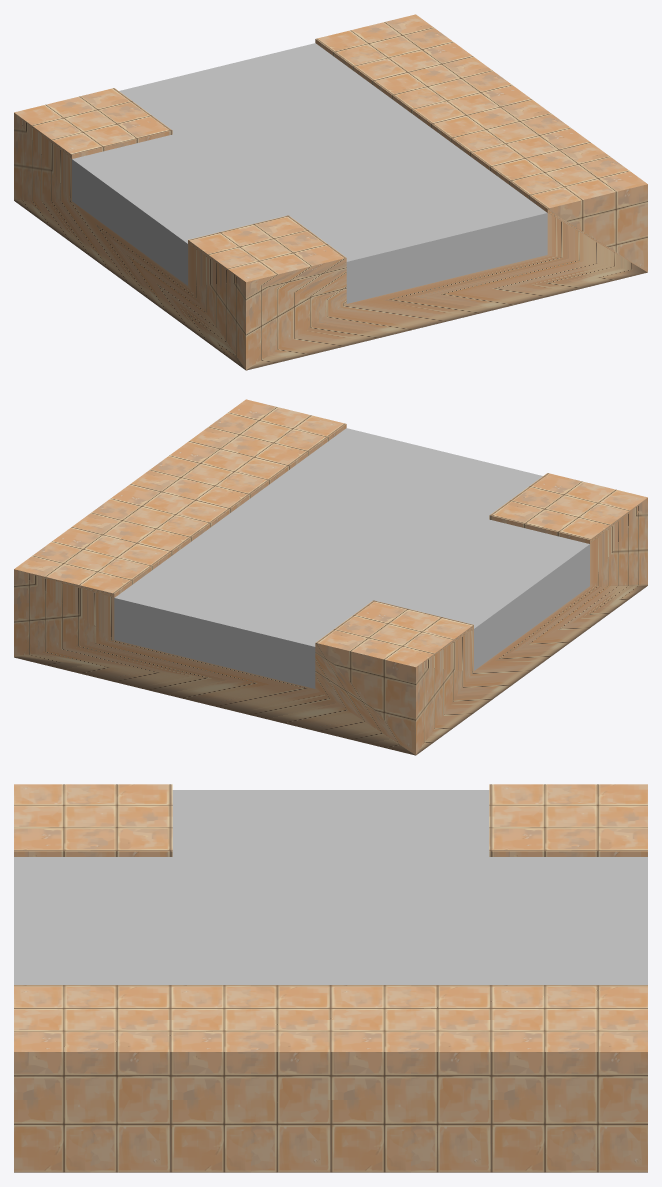
Rendered from tile011.fbx.
3 renders of one model, top to bottom at view 1: azimuth 30°, elevation 25°; view 2: azimuth 150°, elevation 25°; view 3: azimuth 270°, elevation 25°, orthographic. The views are drawn at different scales.
Visible parts, largest first — view 1: tile011; view 2: tile011; view 3: tile011.
Boxes of the visible parts, x1,y1,x2,y2 form: tile011: [14, 14, 647, 370]; tile011: [14, 399, 647, 755]; tile011: [14, 784, 647, 1172].
Size of the model in its own units: 100 by 21 by 100.
